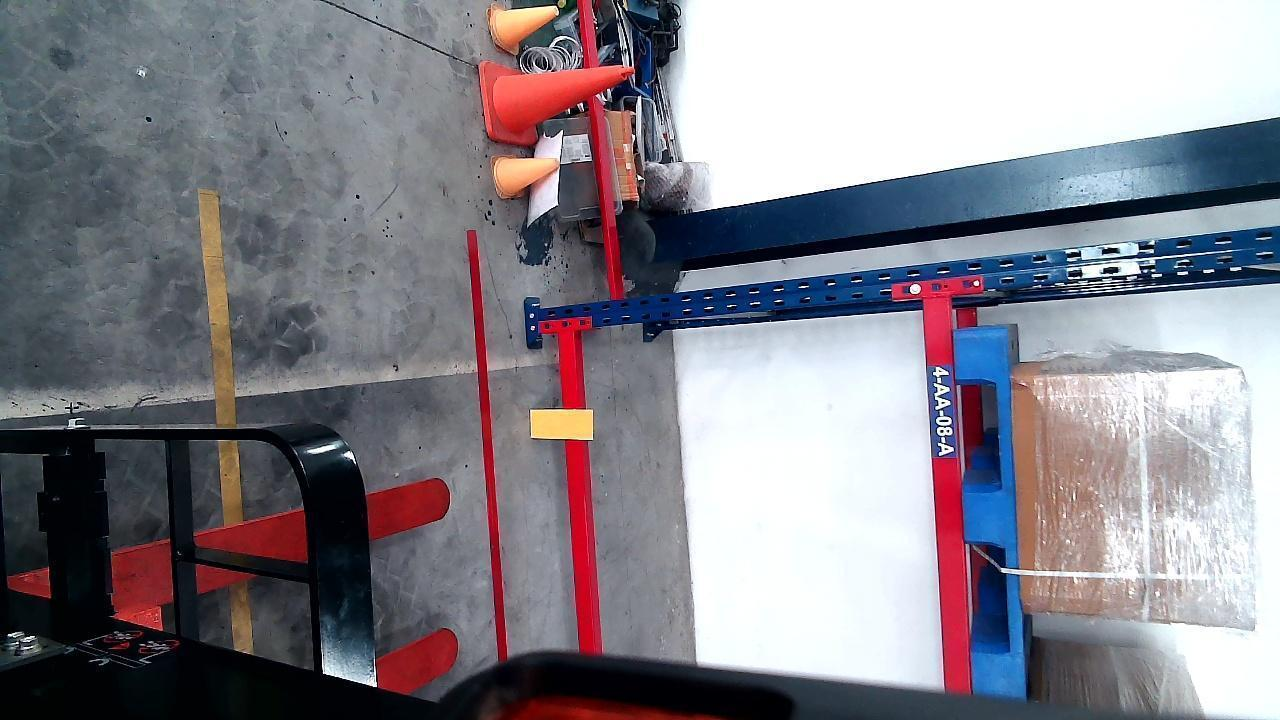red_line: (473, 234, 505, 664)
yellow_line: (200, 177, 245, 527)
